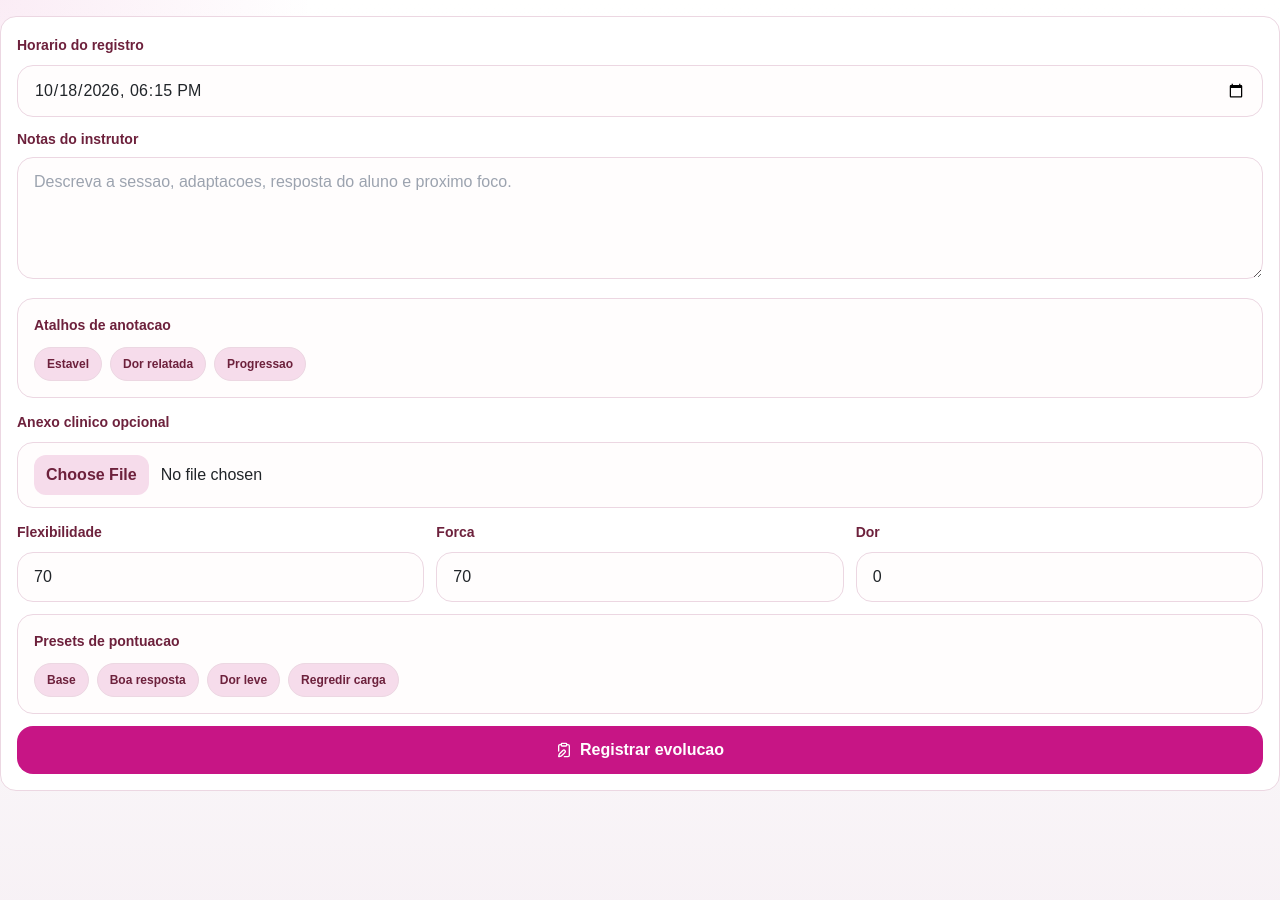
ProgressEntryForm › bloqueia novo envio acidental apos registrar evolucao e oferece proximo aluno
Replace the text in the text box with placeholder "Descreva a sessao, adaptacoes, resposta do aluno e proximo foco." with "Sessao registrada durante atendimento." at (640, 218), box [17, 157, 1263, 279]
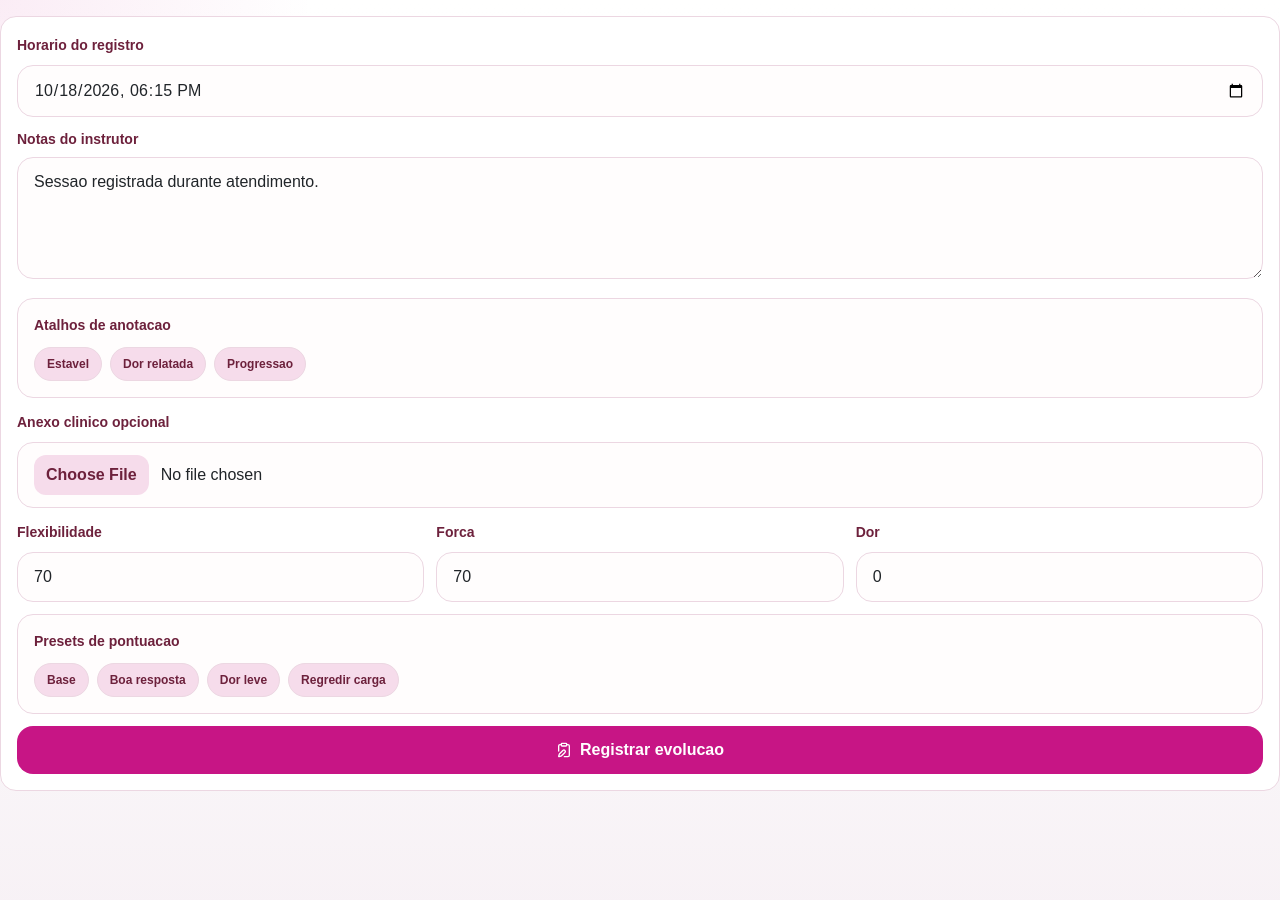
Click the button "Registrar evolucao" at (640, 750), box [17, 726, 1263, 774]
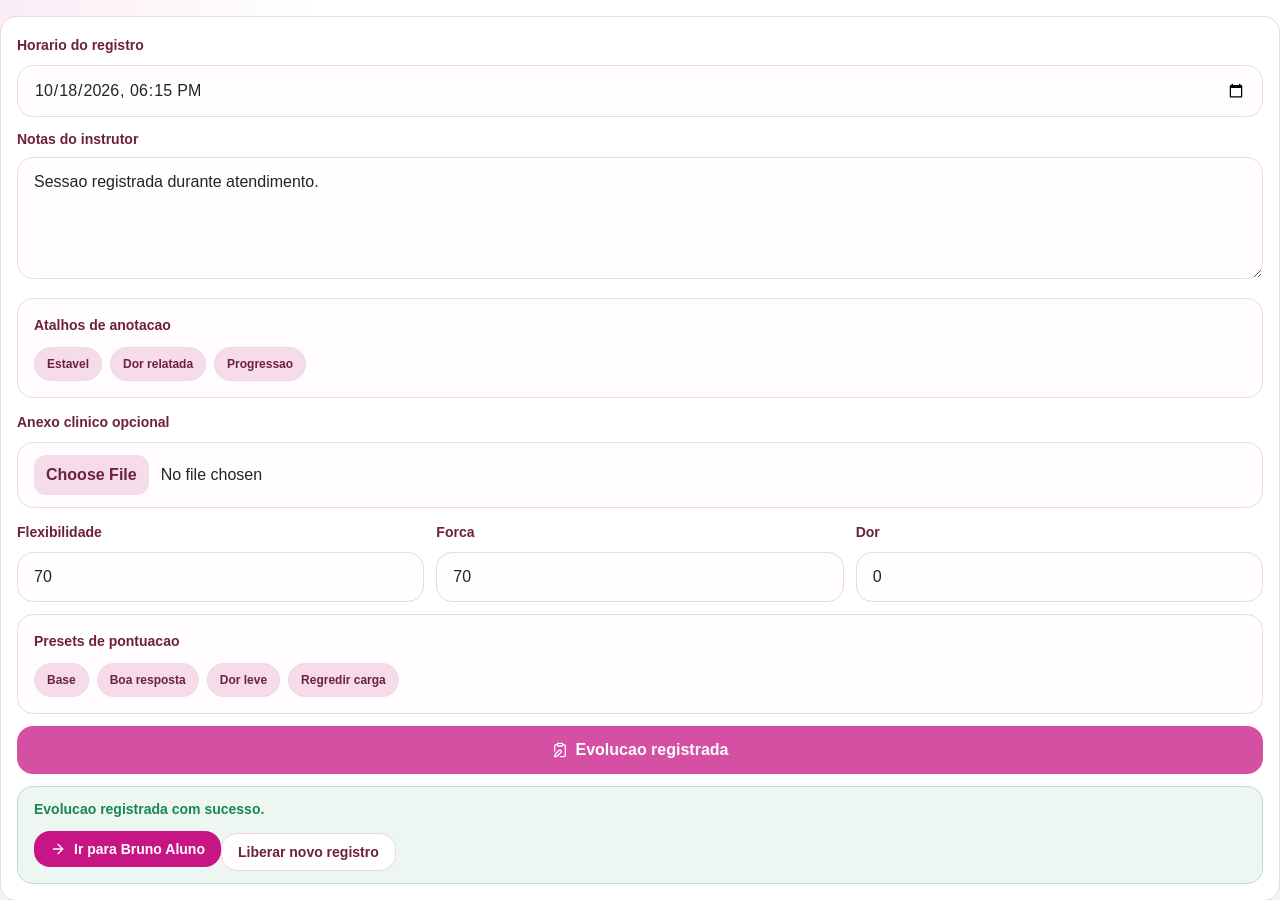
expect the text "Evolucao registrada com sucesso." is shown: met, box [34, 801, 264, 817]
expect the button "Evolucao registrada" is disabled: met, box [17, 726, 1263, 774]
Click the button "Liberar novo registro" at (308, 852), box [221, 833, 396, 871]
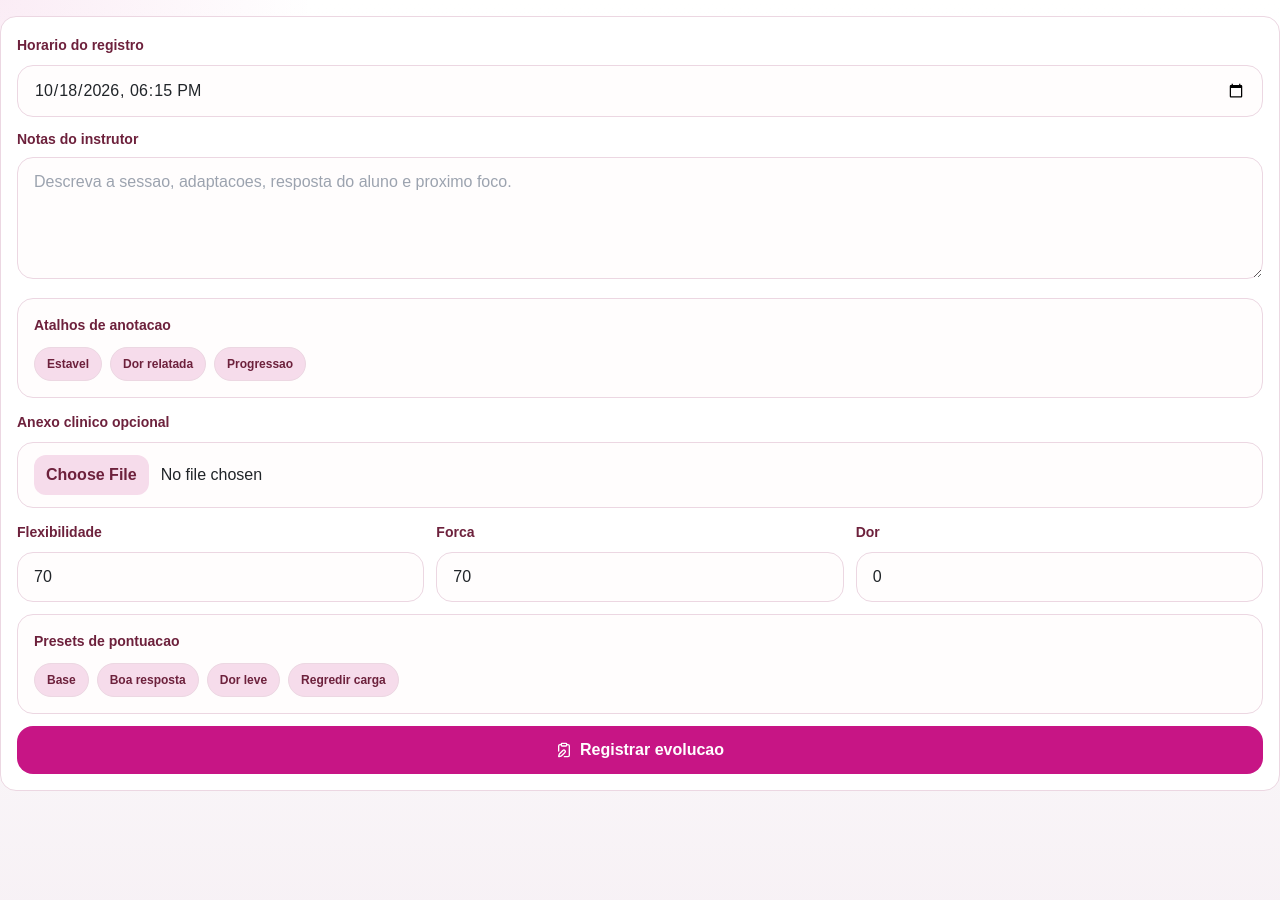
expect the button "Registrar evolucao" is enabled: met, box [17, 726, 1263, 774]
expect the text "Evolucao registrada com sucesso." is gone: met
